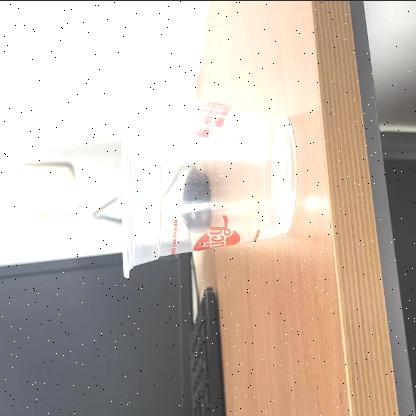Others: (119, 69, 299, 275)
